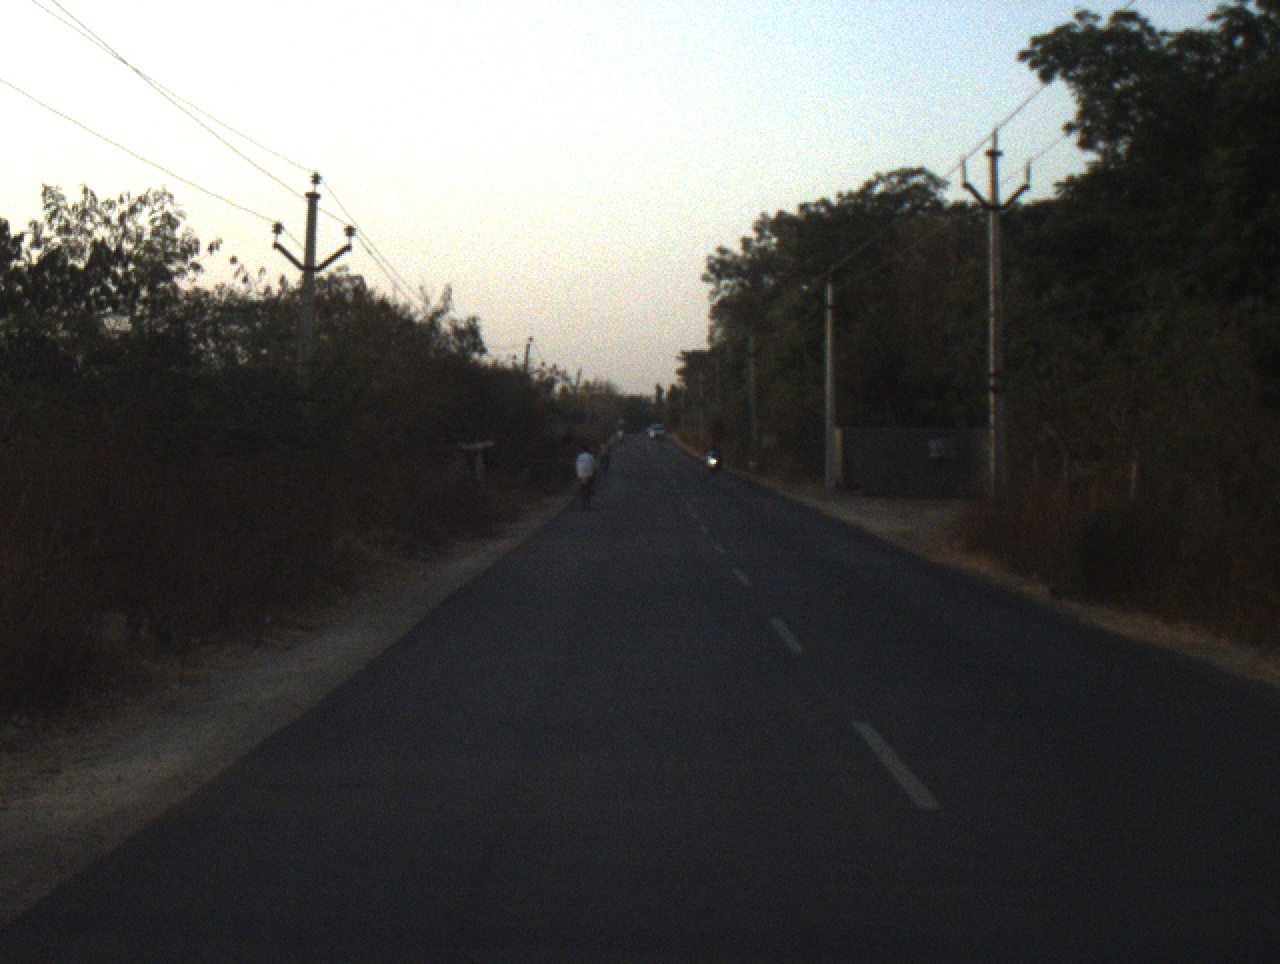bicycle: (579, 477, 592, 509), (597, 454, 607, 476)
car: (646, 419, 668, 440)
motorcycle: (704, 456, 720, 472)
rider: (574, 447, 599, 496), (595, 439, 613, 468), (705, 440, 719, 465)
vehicle fallback: (616, 426, 627, 444)
